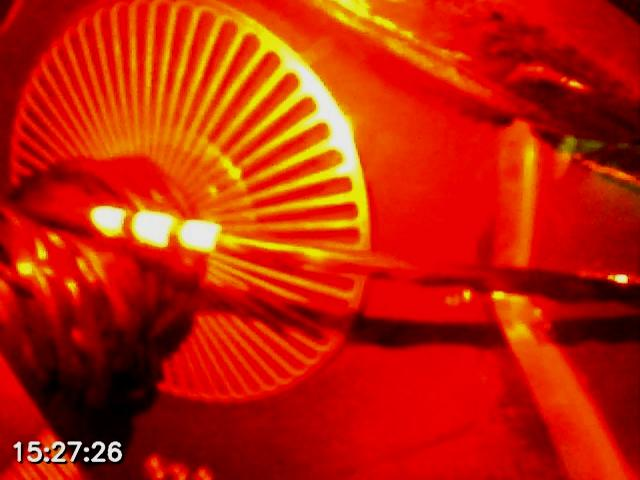white-dots: (90, 205, 223, 255)
